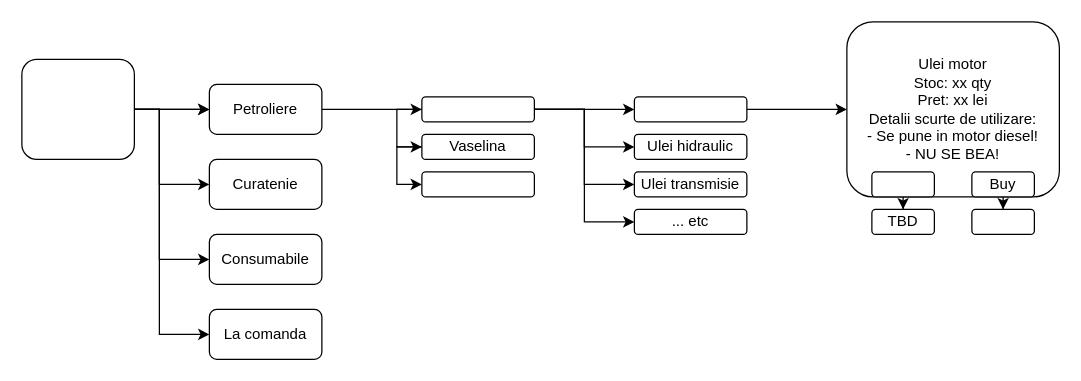
Some shapes in this 1081 by 381 pixel diagram are drawn without their labels. Each missing label, with the box of its shape:
Antigel: (421, 171, 534, 197)
CARD: (971, 208, 1034, 234)
Produse: (21, 58, 134, 159)
Rezerva: (871, 171, 934, 197)
Ulei: (421, 96, 534, 122)
Ulei motor: (633, 96, 747, 122)
